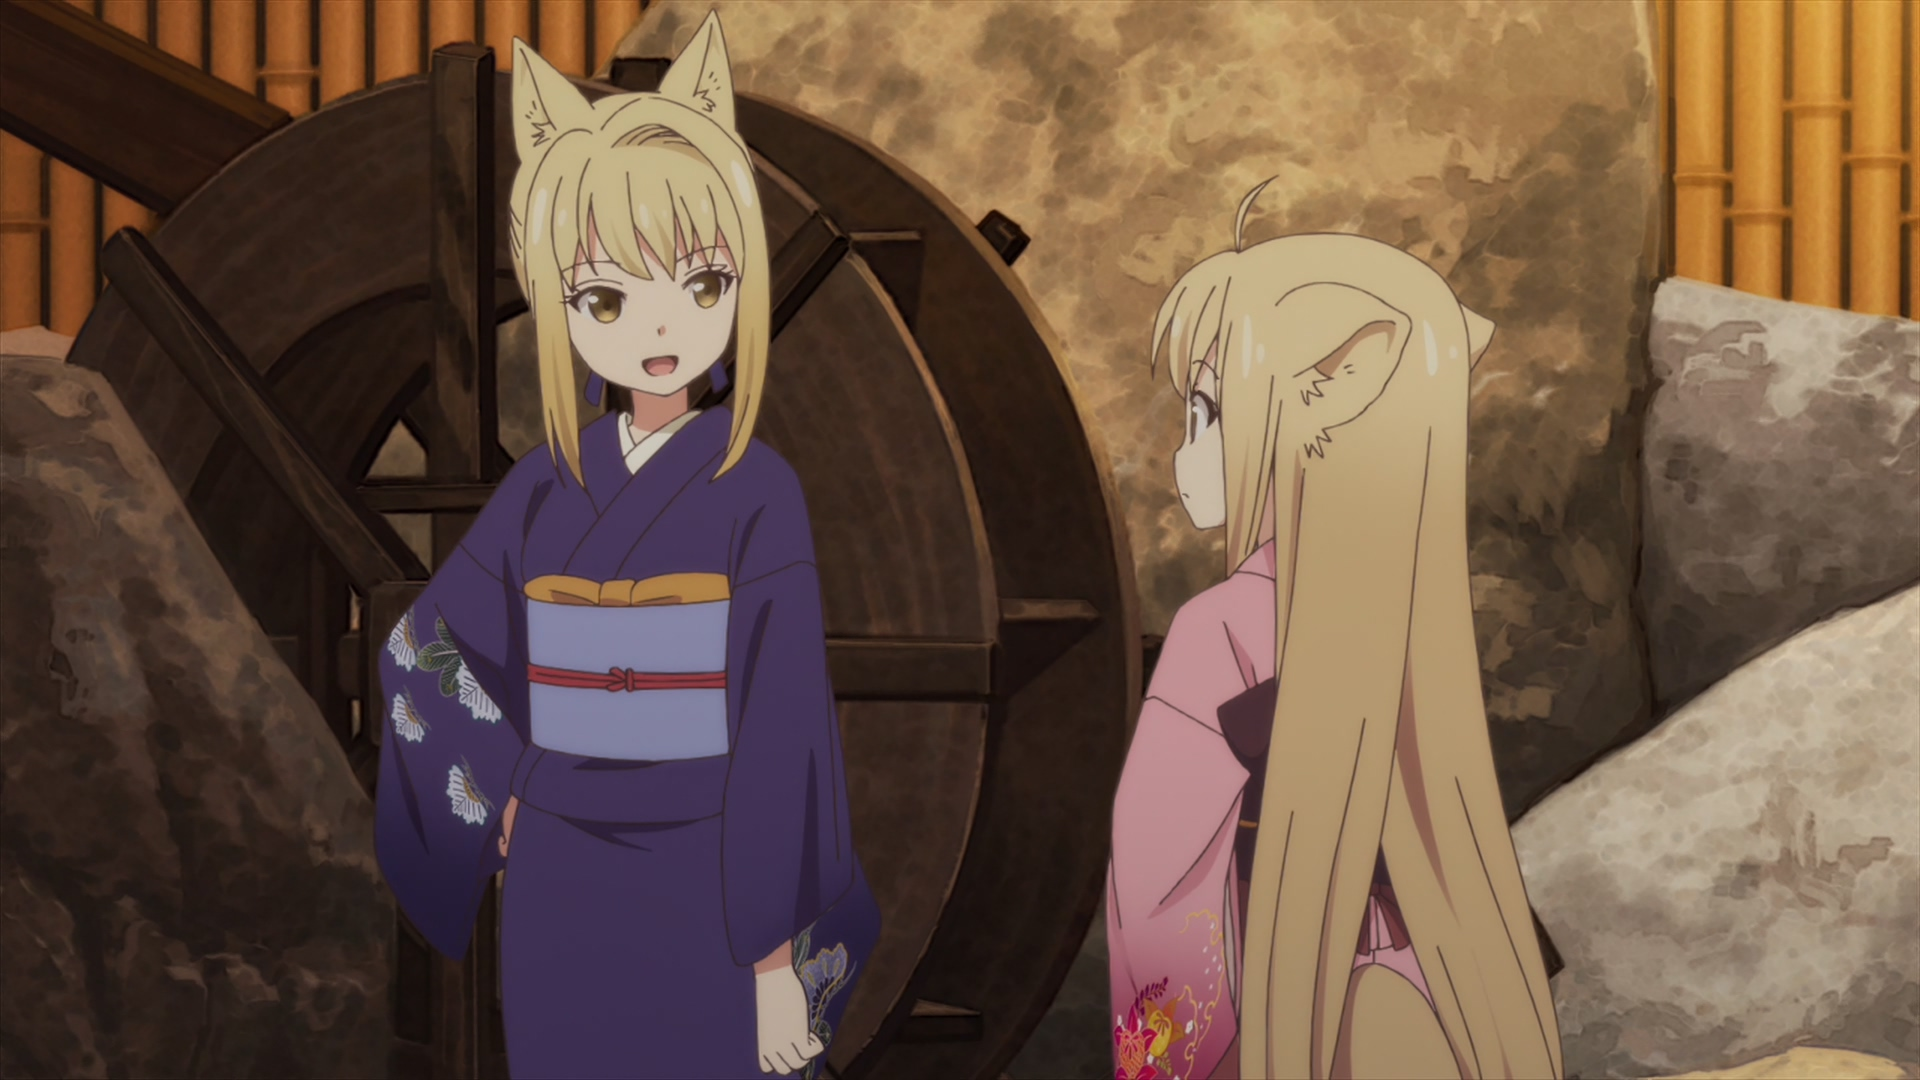柚: (1105, 174, 1563, 1080)
桐: (375, 8, 881, 1080)
